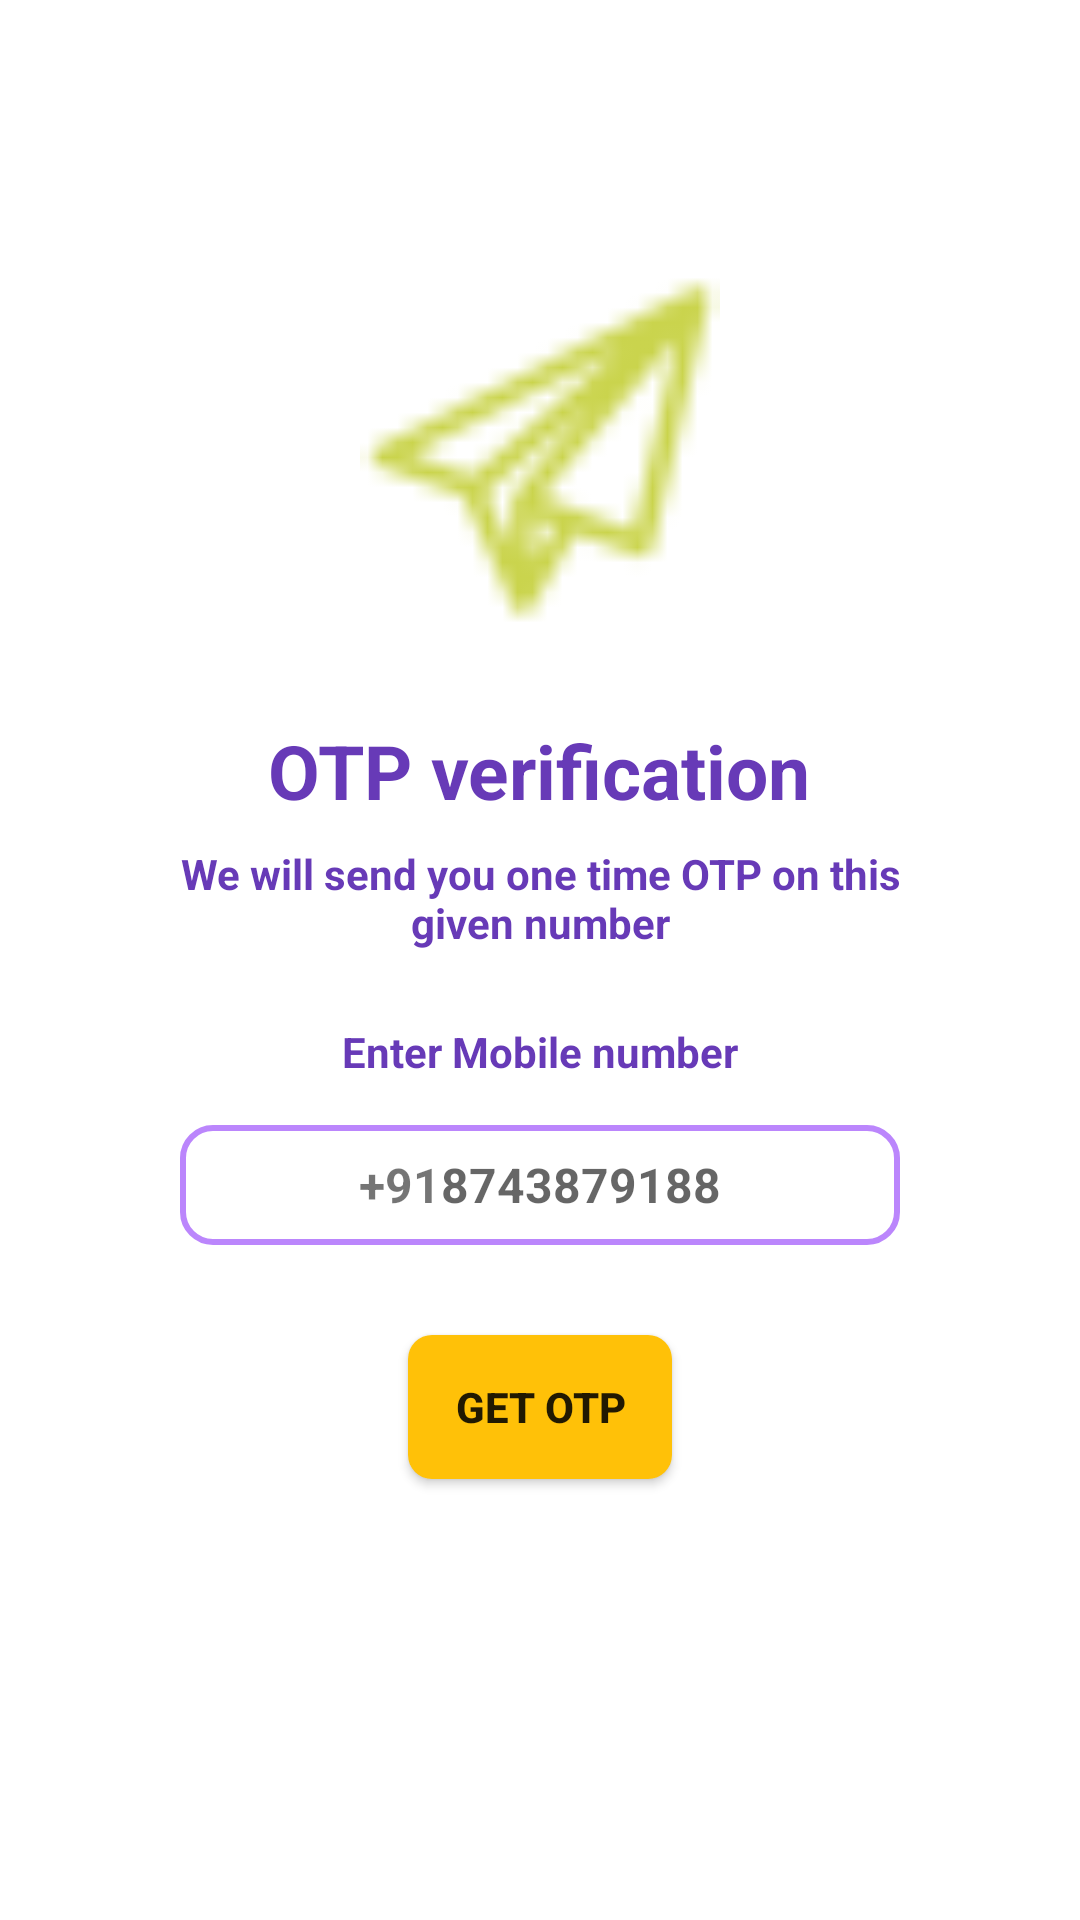

Icon click points for this 1080*1920 phone screenshot, format (x=x, y=y):
sent: (x=544, y=449)
